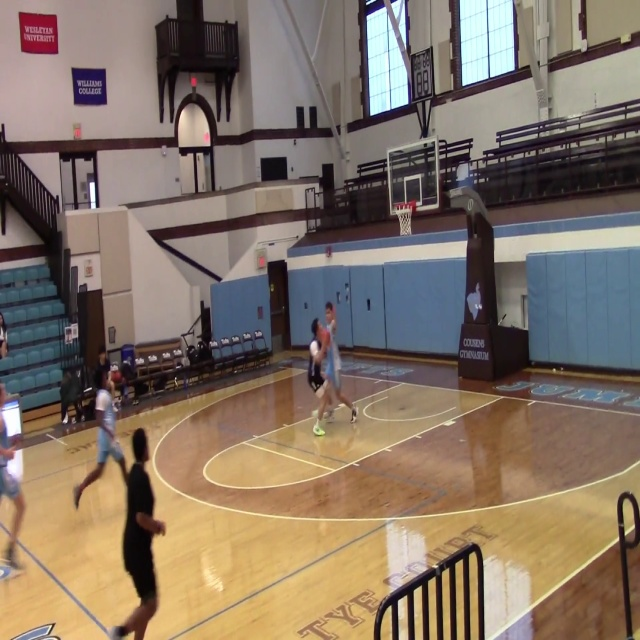Basketball: (309, 340, 319, 357), (111, 370, 122, 383)
